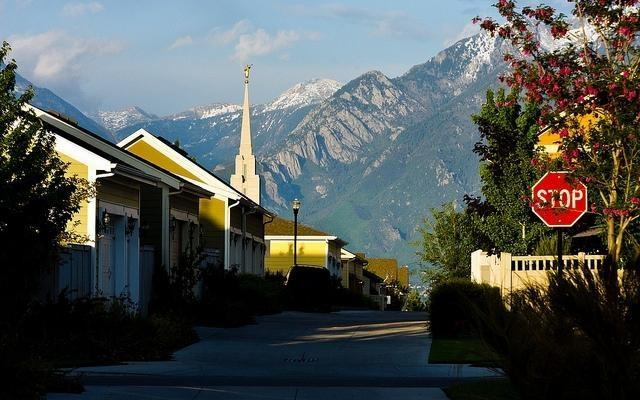car: (280, 266, 336, 310)
